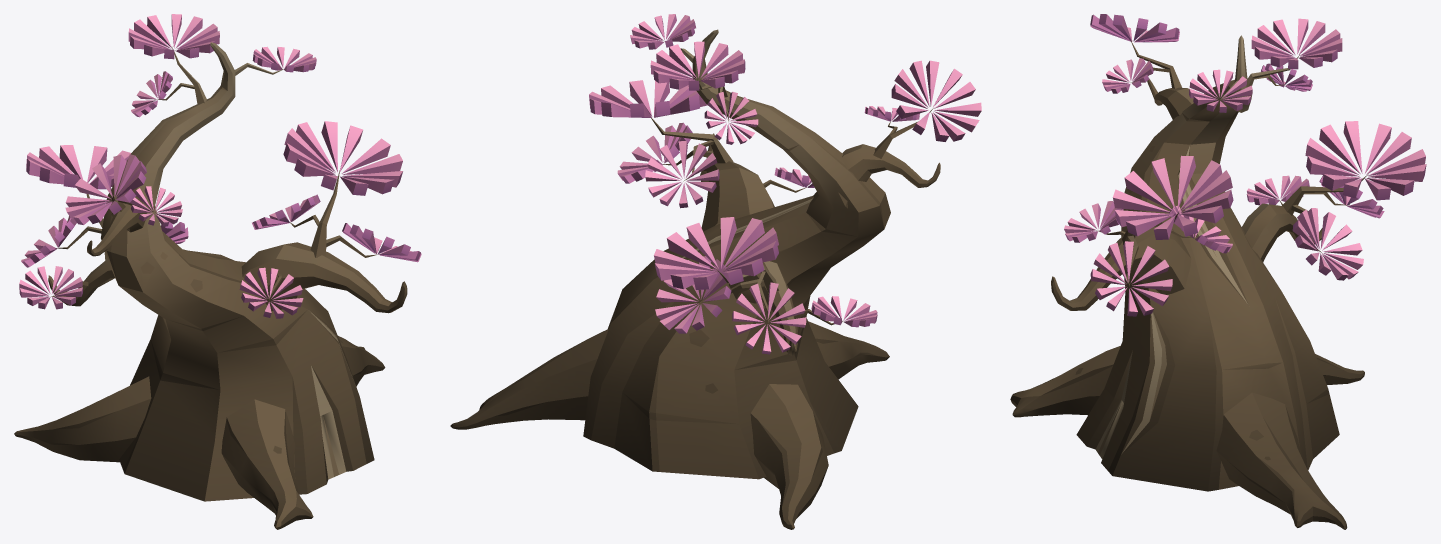
File: ancient_tree_pink_2.glb
3 views of the same model, side by side, from view 1: azimuth 30°, elevation 25°; view 2: azimuth 150°, elevation 25°; view 3: azimuth 270°, elevation 25° (orthographic). The views are drawn at different scales.
Visible parts, largest first — view 1: ancient_tree_pink_2; view 2: ancient_tree_pink_2; view 3: ancient_tree_pink_2.
Part boxes in pixels (x1,y1,x2,y2): ancient_tree_pink_2: (14,14,421,529); ancient_tree_pink_2: (450,14,981,529); ancient_tree_pink_2: (1010,14,1426,529).
Size of the model in its own units: 6.05 by 5.9 by 5.48.
1 material, 1 textured.
